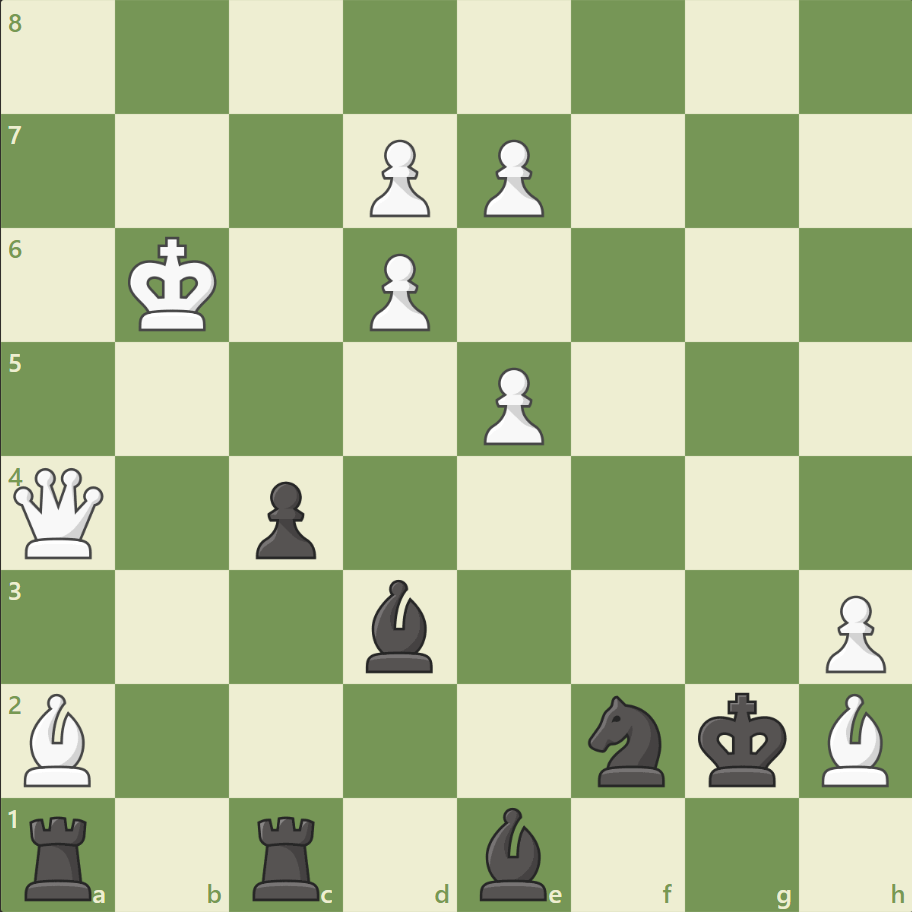B: (17, 687, 101, 790), (812, 687, 896, 790)
K: (124, 231, 224, 339)
P: (474, 132, 549, 223), (474, 359, 549, 450), (361, 132, 435, 223), (361, 246, 435, 337), (815, 586, 889, 677)
Q: (10, 463, 109, 562)
b: (471, 801, 555, 904), (358, 574, 442, 676)
k: (692, 685, 792, 793)
n: (579, 688, 676, 791)
p: (247, 473, 322, 564)
r: (19, 806, 102, 904), (246, 806, 329, 904)
